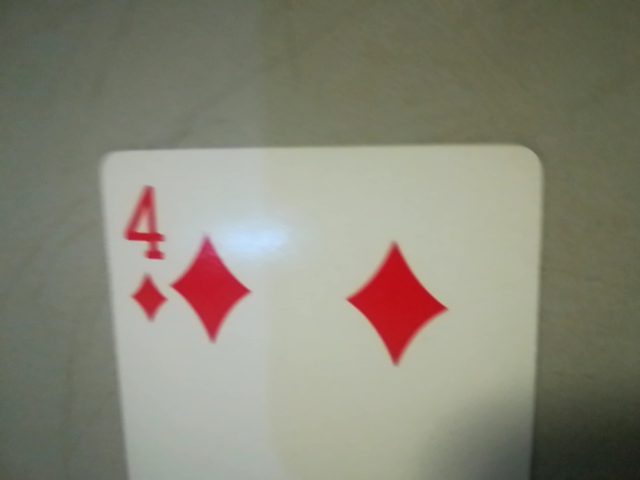fk 4: (108, 172, 187, 340)
